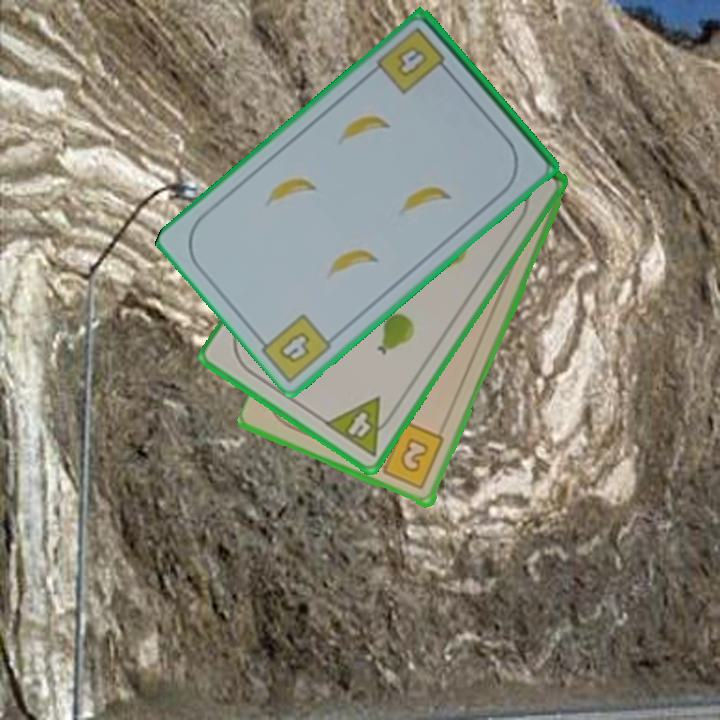2b: (371, 419, 448, 493)
4b: (373, 24, 455, 97), (274, 328, 313, 367)
4p: (321, 393, 401, 460)
